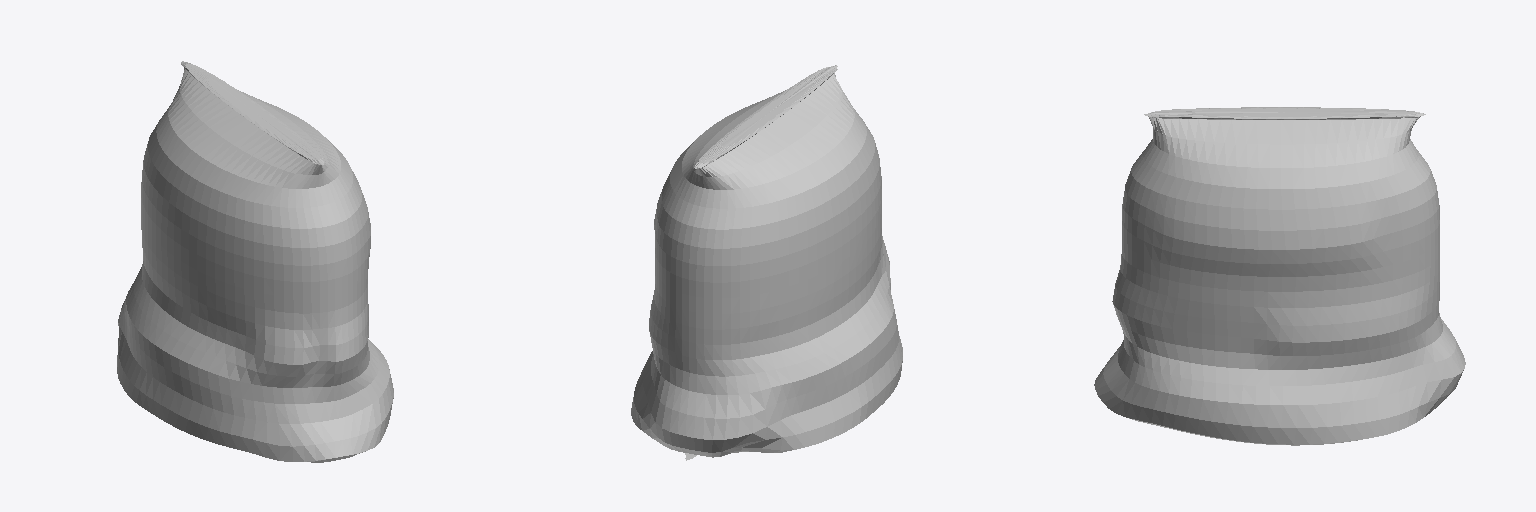
The model's file is flour_sack.obj.
The picture shows the model from 3 angles: view 1: azimuth 30°, elevation 25°; view 2: azimuth 150°, elevation 25°; view 3: azimuth 270°, elevation 25°; orthographic projection.
Parts seen in each view (by area): view 1: Layer0_001; view 2: Layer0_001; view 3: Layer0_001.
Boxes of the visible parts, <box> form: Layer0_001: <box>117,61,393,462</box>; Layer0_001: <box>631,65,902,460</box>; Layer0_001: <box>1094,107,1465,445</box>.
Bounding box in the file's own units: 30.15 × 39.09 × 45.89.